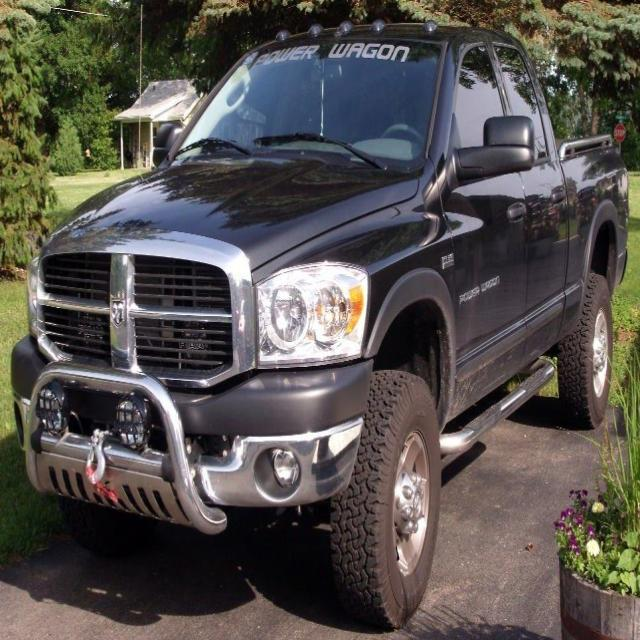CMT: (34, 20, 640, 608)
